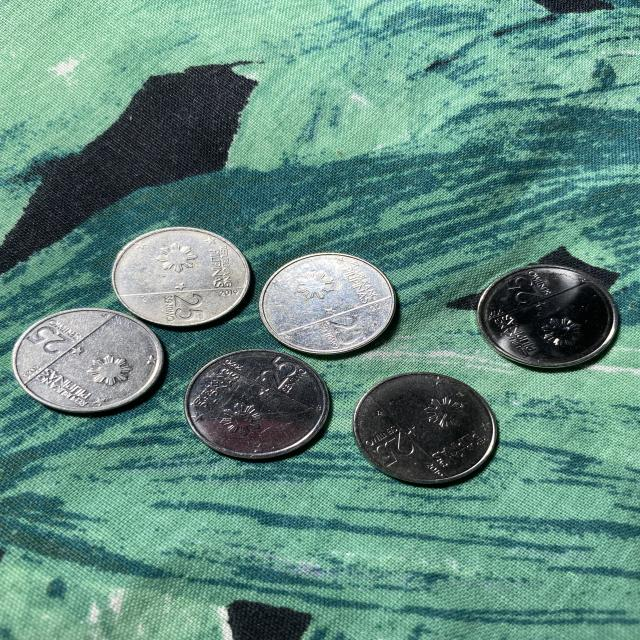25Cent_New_Front: (373, 432, 414, 465), (29, 325, 68, 356), (329, 313, 364, 345), (504, 275, 542, 303), (259, 356, 293, 387), (173, 294, 204, 320)
